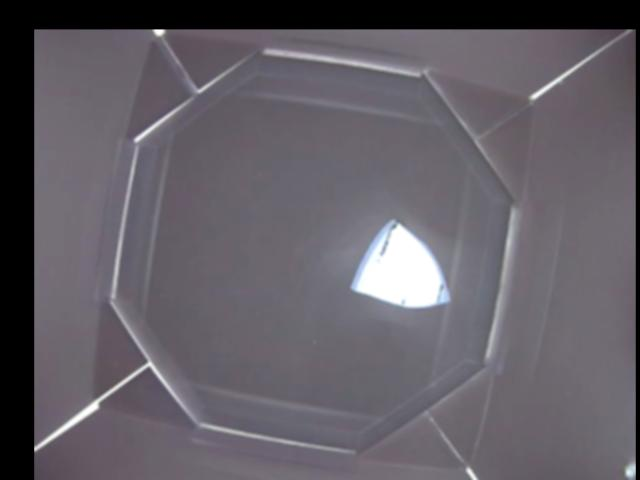China: (350, 219, 449, 310)
